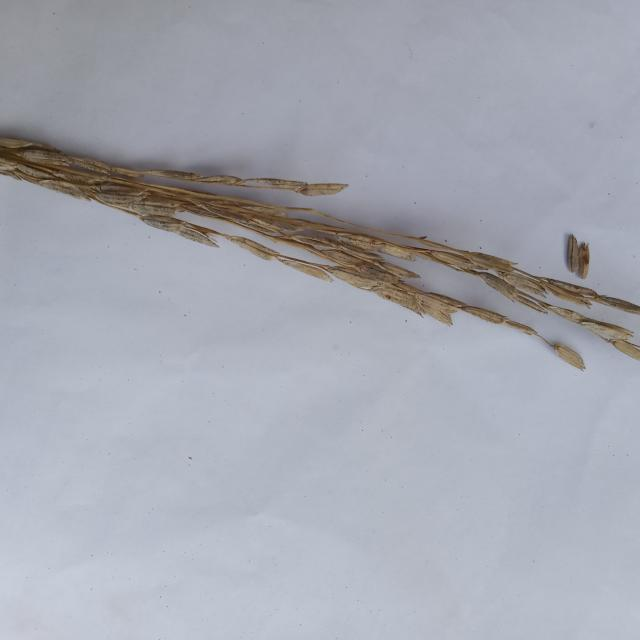Neck_Blast: (3, 121, 640, 384)
